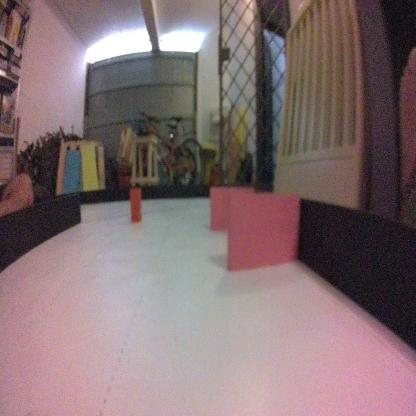magenta: (227, 194, 300, 276), (210, 184, 254, 236)
red: (129, 185, 142, 223)
